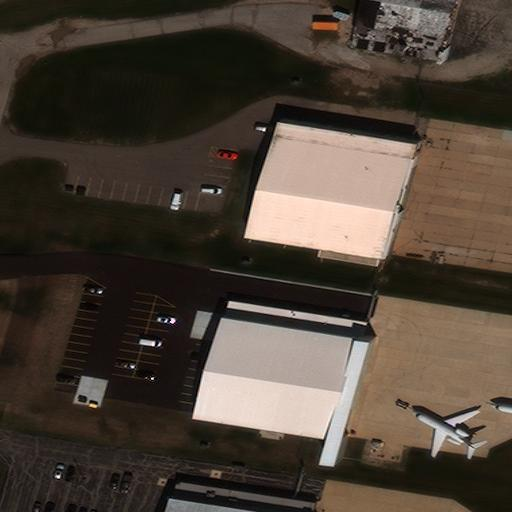Medium Civil Transport: (412, 408, 476, 457)
